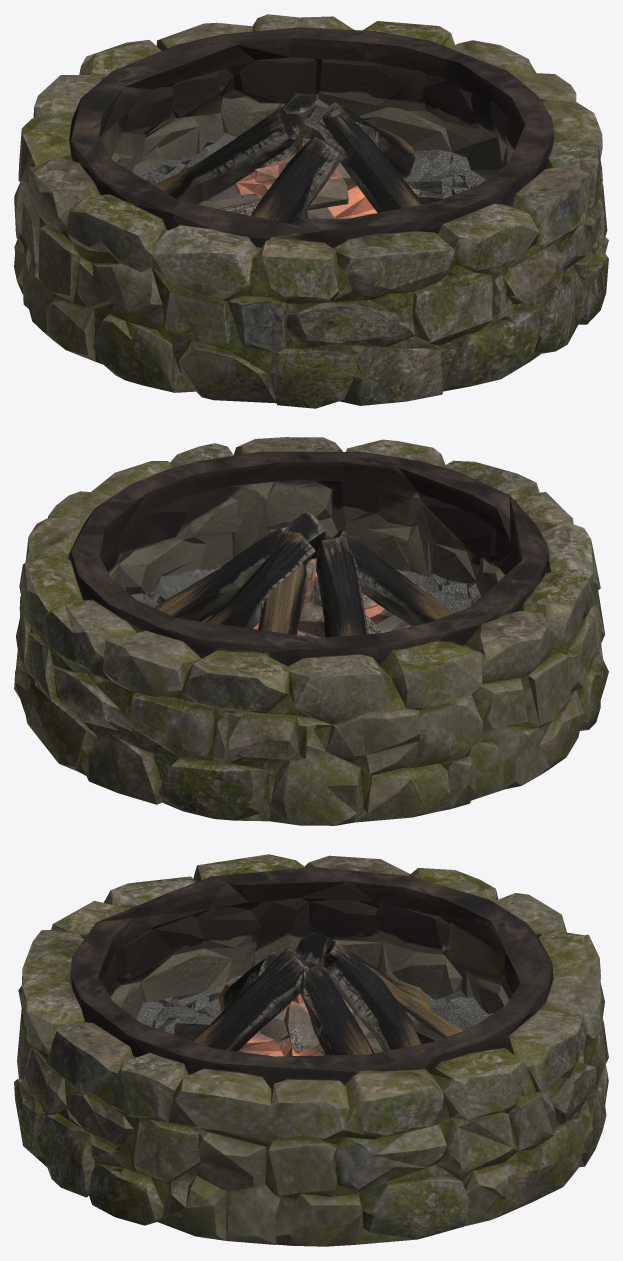
Rendered from firepit.glb.
The picture shows the model from 3 angles, top to bottom: view 1: azimuth 30°, elevation 25°; view 2: azimuth 150°, elevation 25°; view 3: azimuth 270°, elevation 25°; orthographic projection.
Visible parts, largest first — view 1: Mesh_0; view 2: Mesh_0; view 3: Mesh_0.
Boxes of the visible parts, x1=… form: Mesh_0: x1=14, y1=14, x2=608, y2=408; Mesh_0: x1=14, y1=437, x2=608, y2=825; Mesh_0: x1=14, y1=854, x2=608, y2=1246.
Size of the model in its own units: 1.89 by 0.6511 by 1.9.
Materials: 1 (1 with a texture image).
